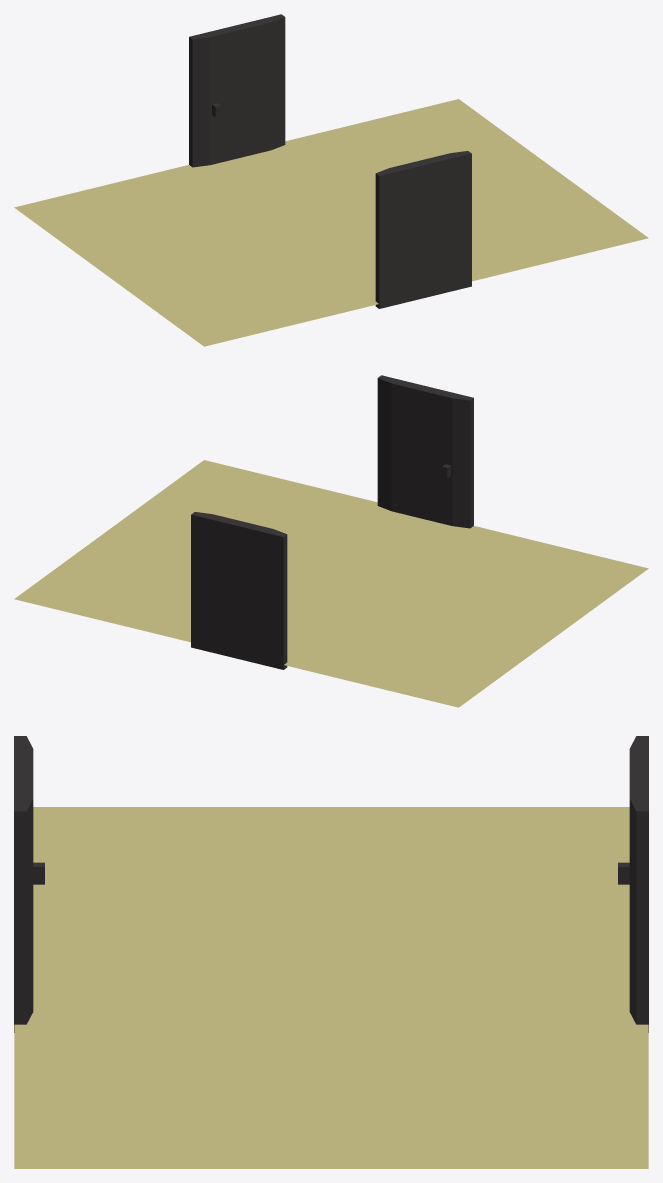
Rendered from ByakkoStage4.10.fbx.
The picture shows the model from 3 angles, top to bottom: view 1: azimuth 30°, elevation 25°; view 2: azimuth 150°, elevation 25°; view 3: azimuth 270°, elevation 25°; orthographic projection. The views are drawn at different scales.
Parts seen in each view (by area): view 1: Plane.046, Plane.047; view 2: Plane.046, Plane.047; view 3: Plane.046, Plane.047.
Boxes of the visible parts, <box> form: Plane.046: <box>14,99,648,346</box>; Plane.047: <box>189,14,471,308</box>; Plane.046: <box>14,460,648,707</box>; Plane.047: <box>191,375,473,669</box>; Plane.046: <box>14,807,648,1168</box>; Plane.047: <box>14,736,648,1032</box>.
Bounding box in the file's own units: 34.3 × 9.8 × 25.43.
